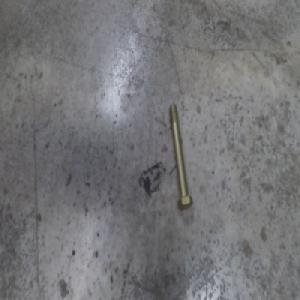Bolt: (166, 106, 190, 211)
